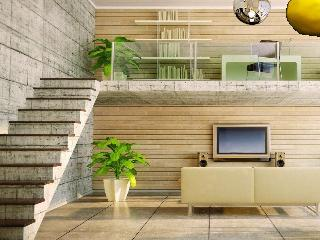lemon: (286, 0, 320, 36)
